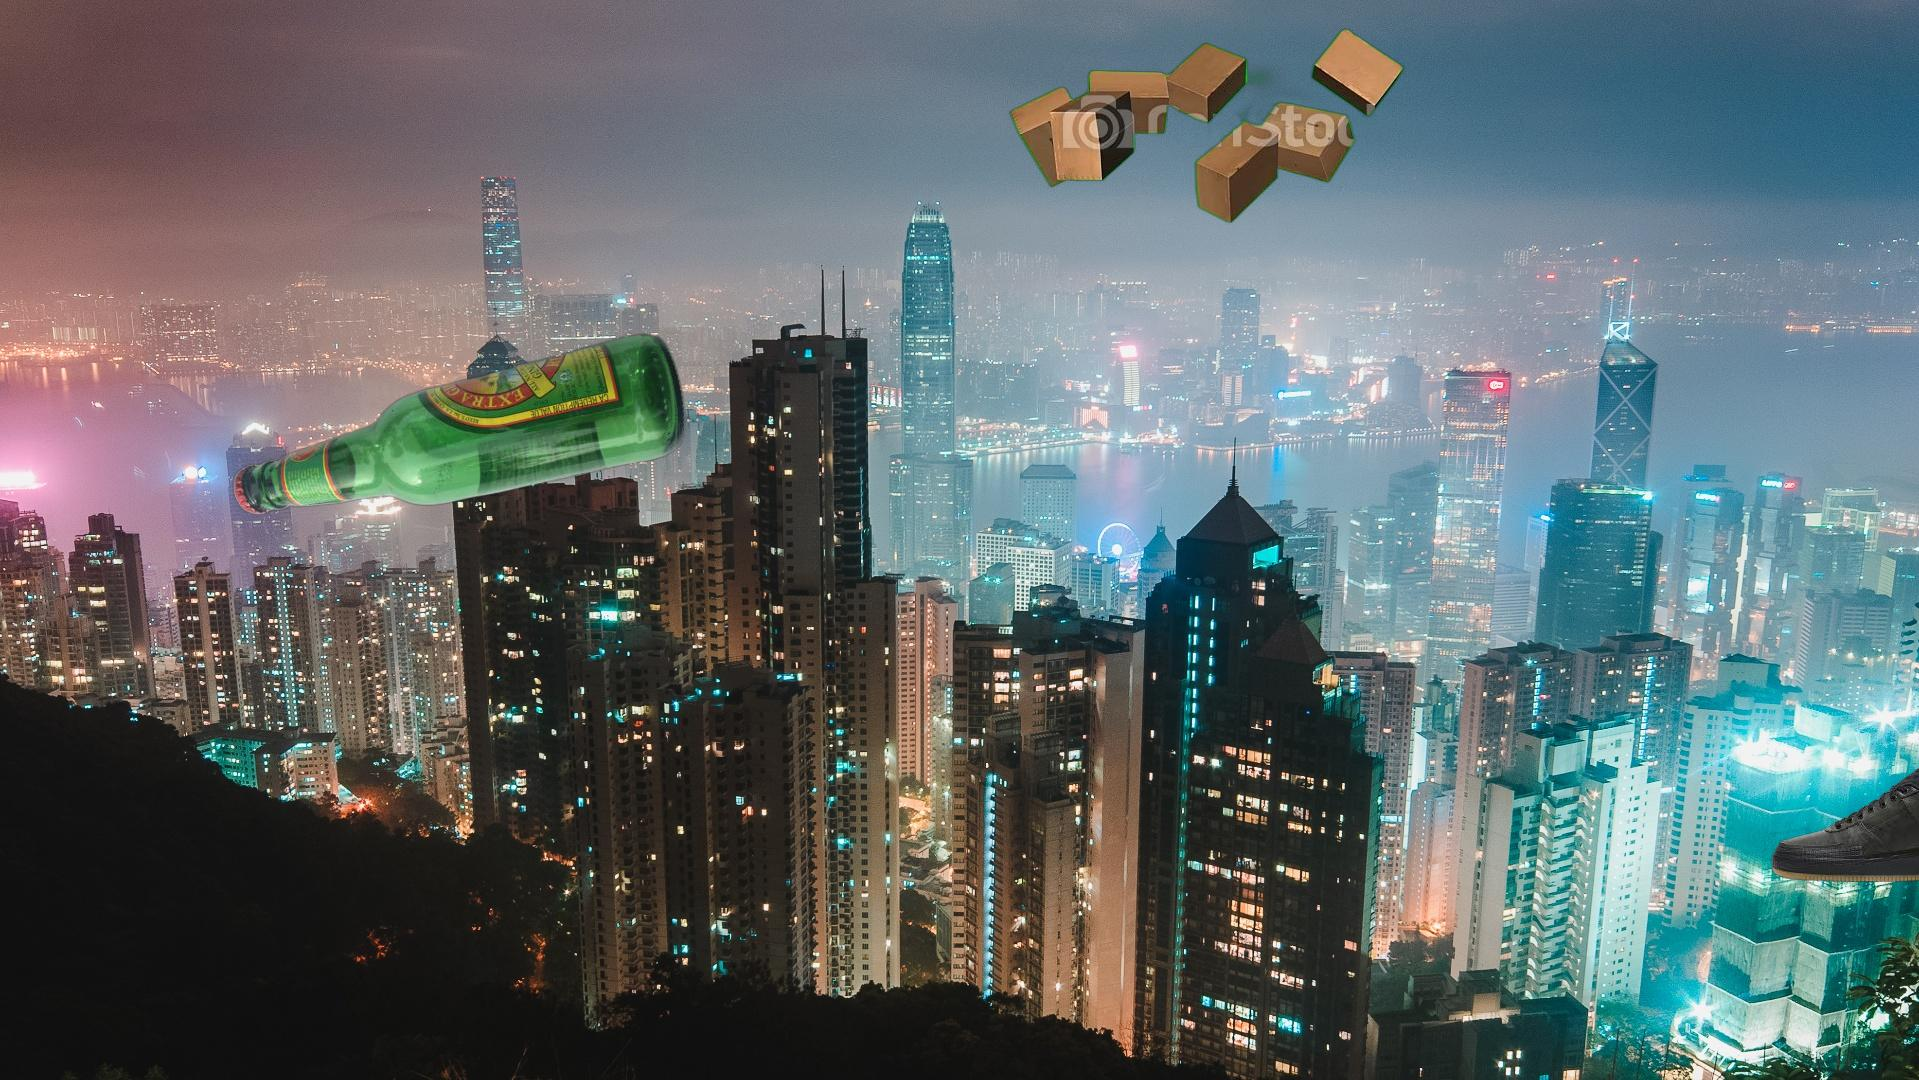glass: (228, 331, 693, 517)
shoes: (1767, 760, 1919, 885)
trashbox-cardboard: (1004, 26, 1409, 225)
